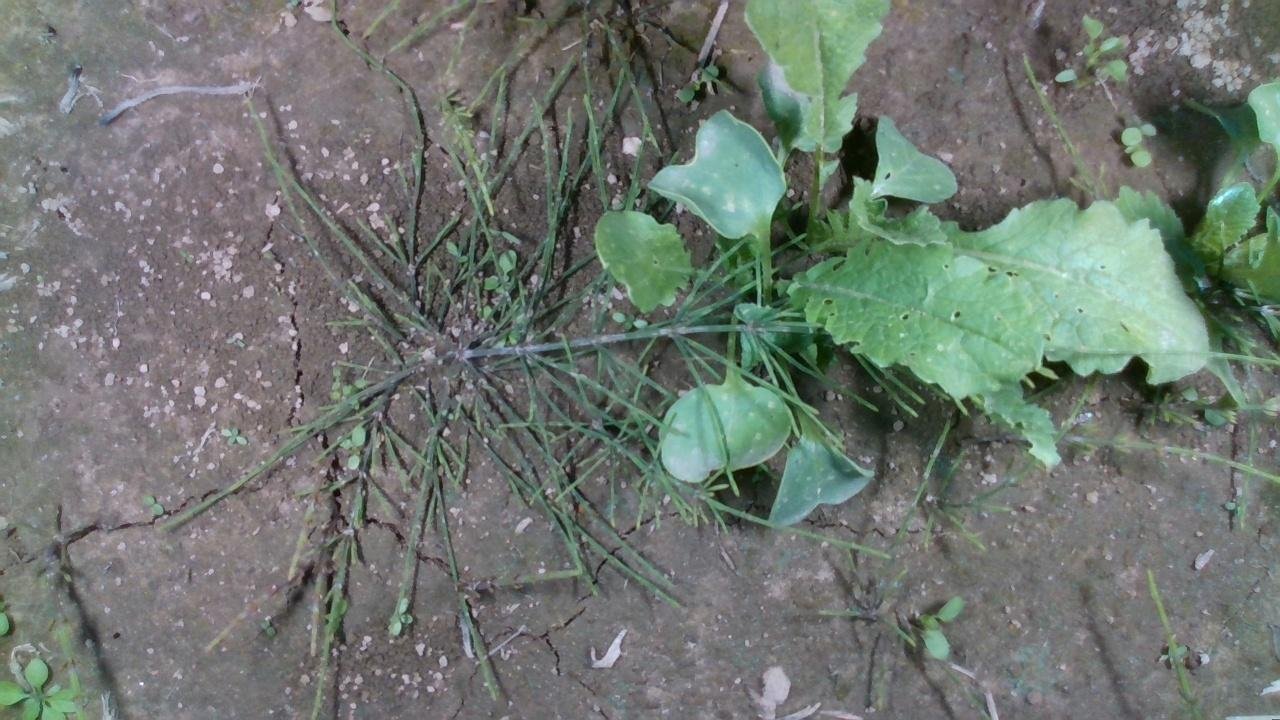weed: (218, 426, 248, 449), (139, 492, 163, 514)
